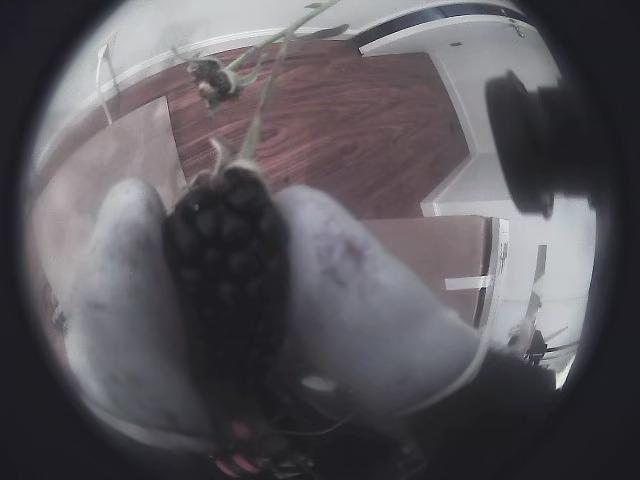berry: (165, 38, 289, 379)
gripper: (276, 185, 488, 418), (66, 178, 212, 449)
lense: (0, 0, 170, 479), (491, 0, 639, 479)
